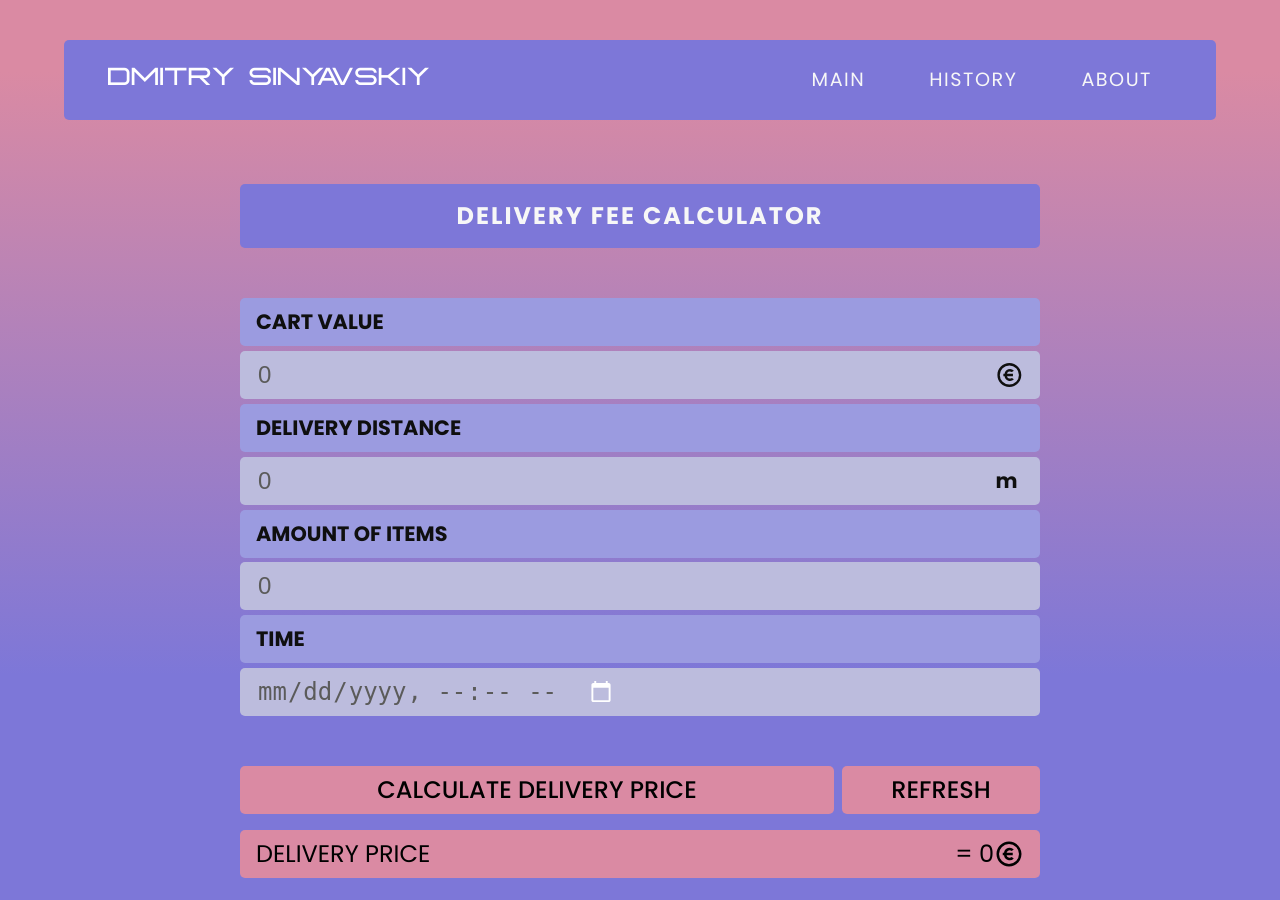
it: Integration tests › test calculate functionality and refresh btn
The width and height of the screenshot is (1280, 900).
Step 1. Replace the text in the field with test id "cartValue" with "10" → (626, 375), box [256,360,995,390]
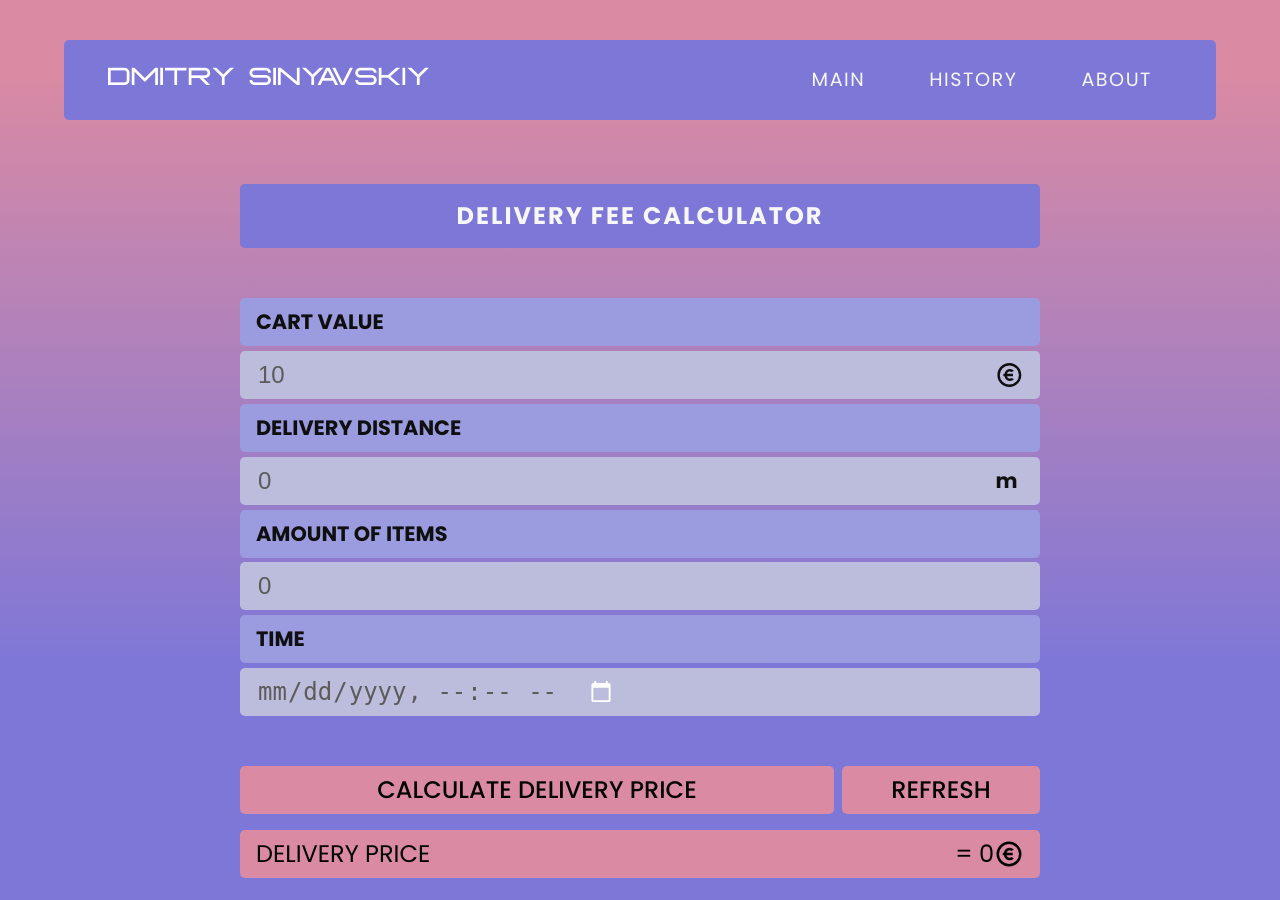
Step 2. Replace the text in the field with test id "distance" with "1000" → (626, 481), box [256,466,996,496]
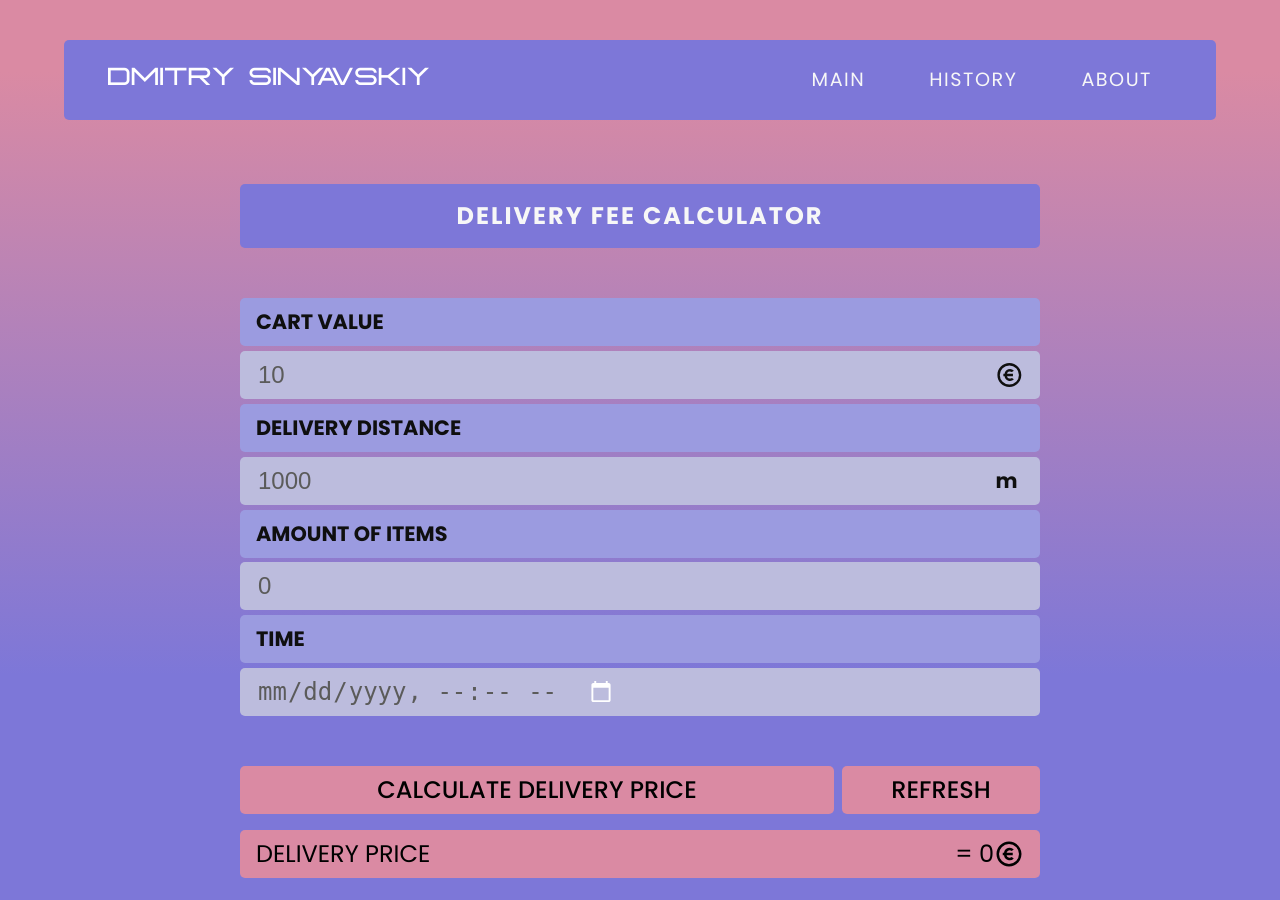
Step 3. Replace the text in the field with test id "itemsAmount" with "10" → (640, 586), box [256,571,1024,601]
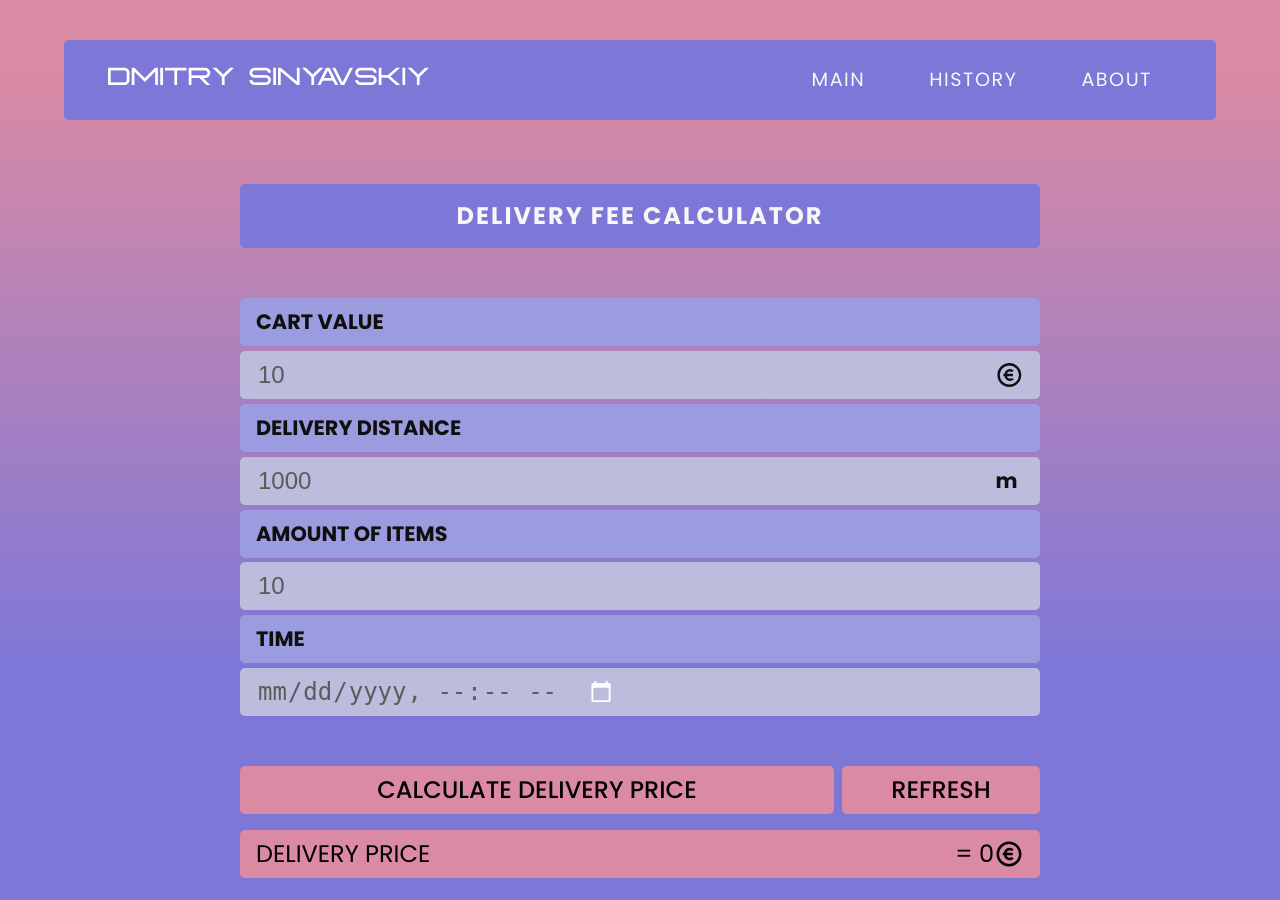
Step 4. Type "2023-01-06T10:00" into the field with test id "date" → (436, 692), box [256,677,615,707]
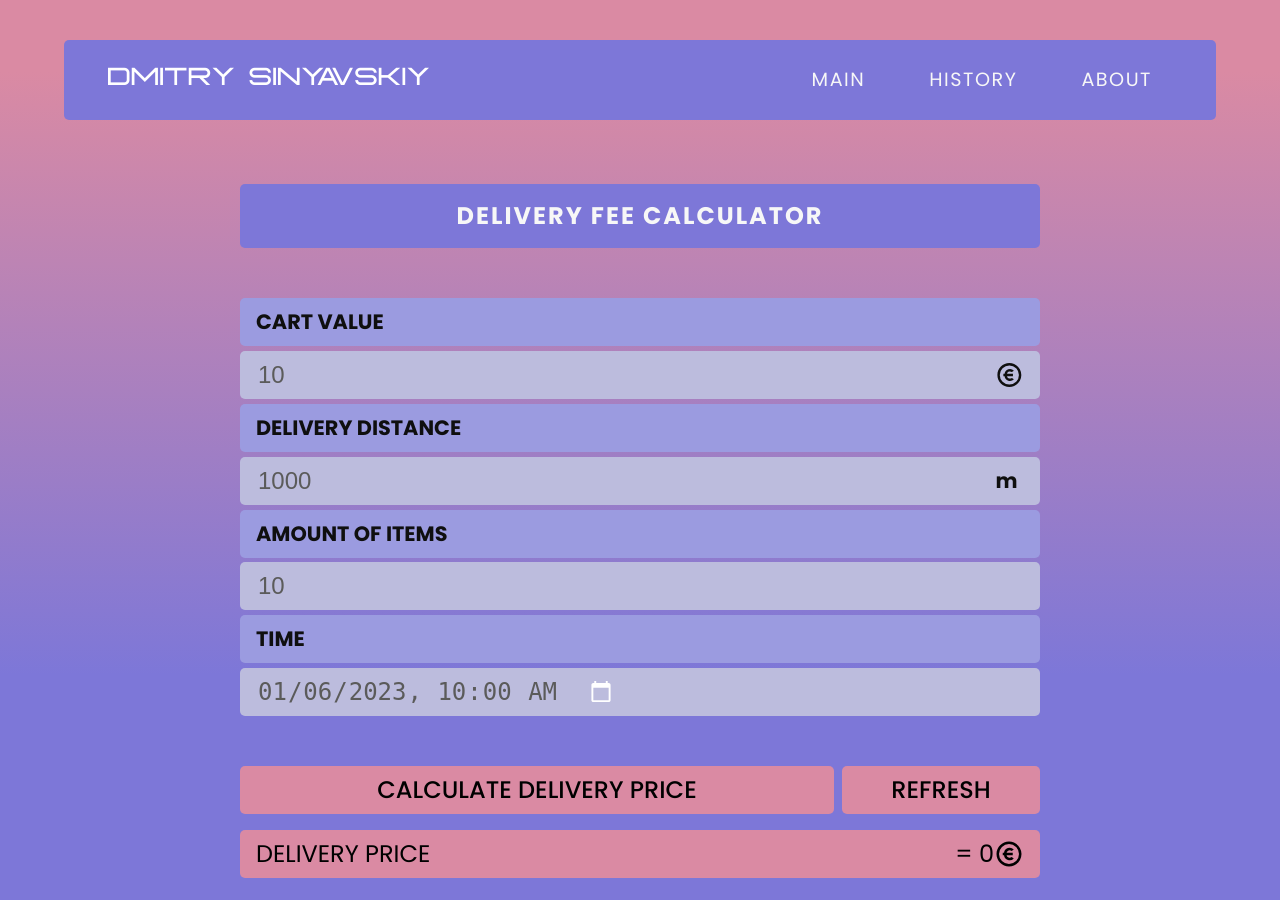
Step 5. Click the text "Calculate delivery price" → (537, 790), box [377,778,697,802]
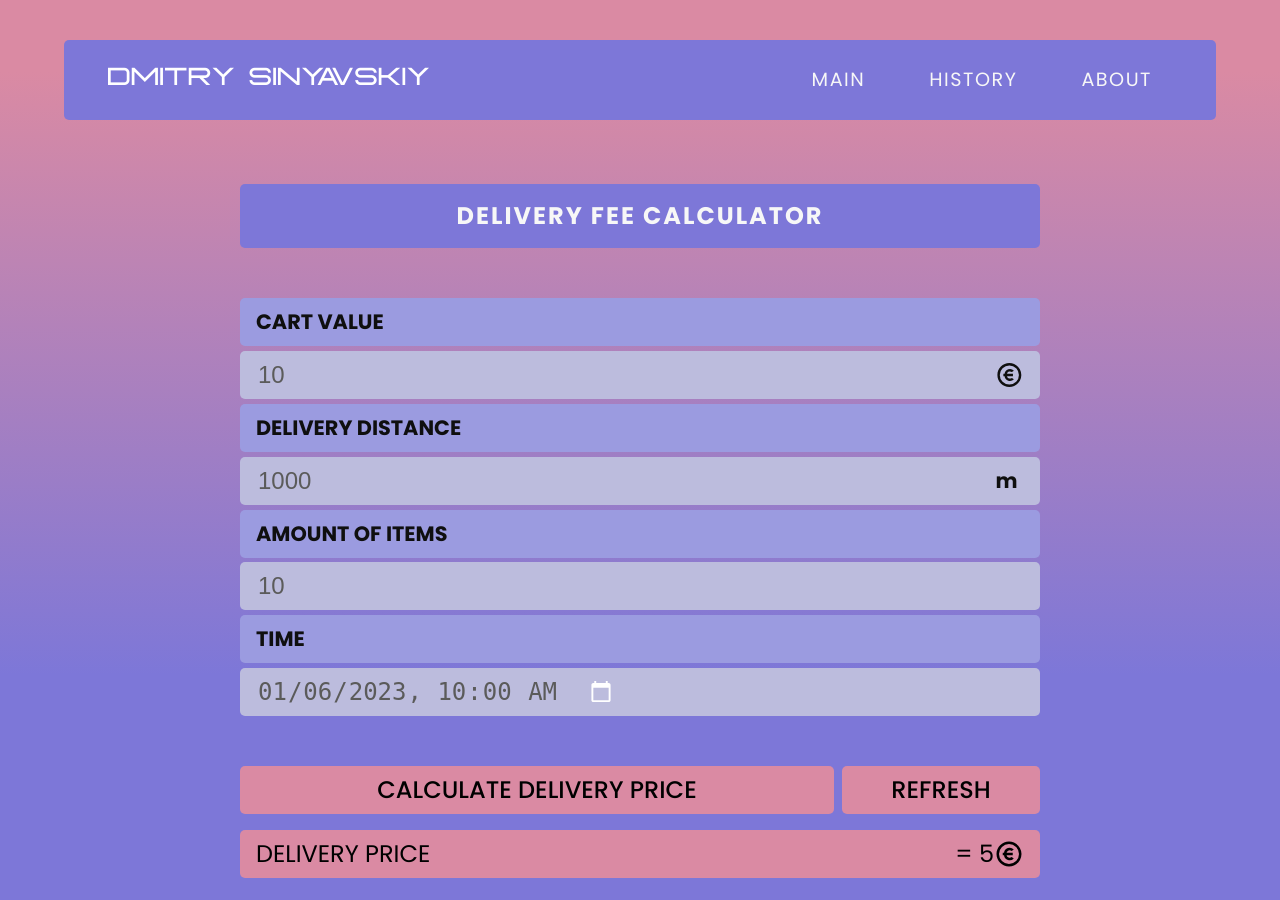
Expected: the text with test id "result" reads "= 5", [955,842,994,866]
Step 6. Click the text "Refresh" → (941, 790), box [891,778,991,802]
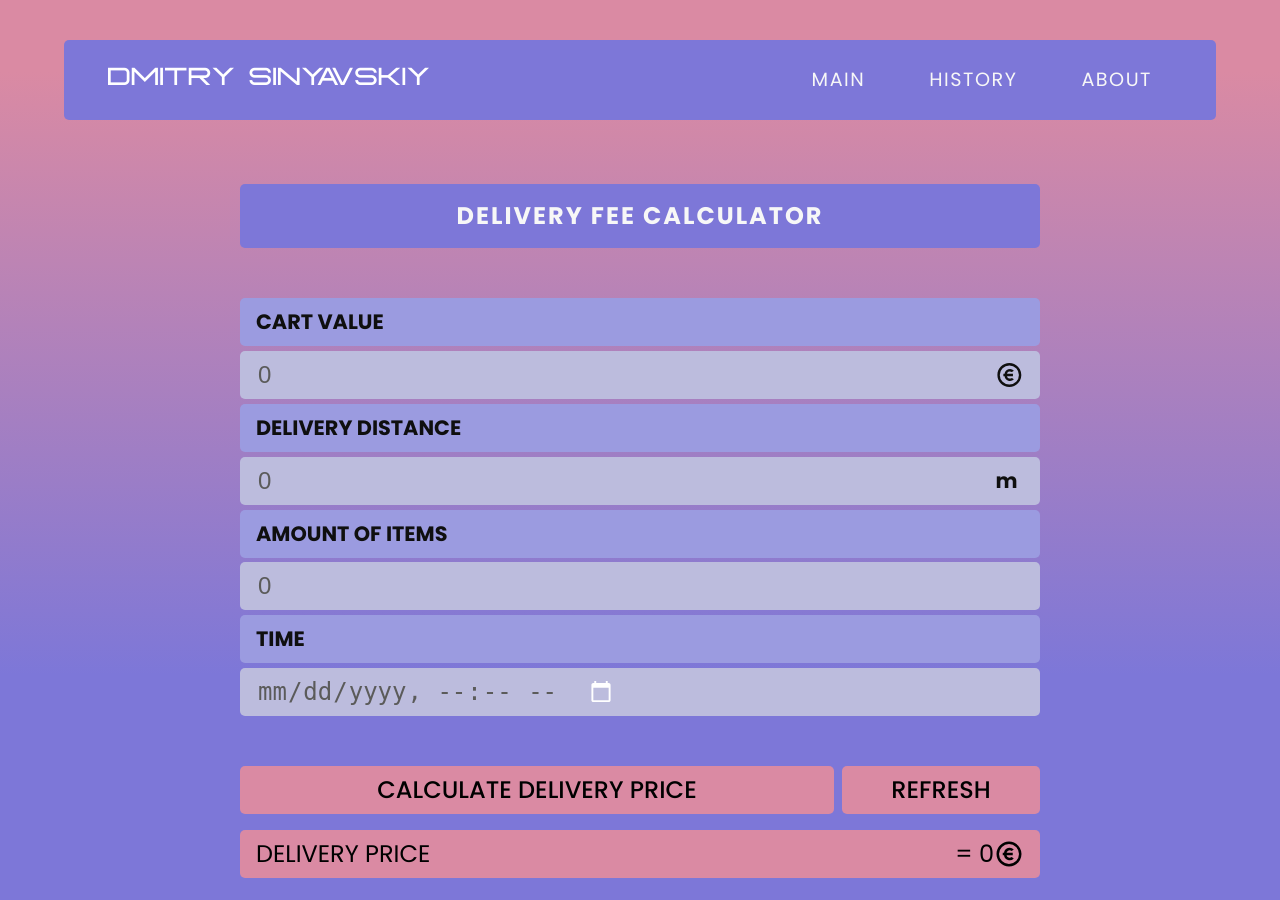
Expected: the field with test id "cartValue" holds "0", [256,360,995,390]
Expected: the field with test id "distance" holds "0", [256,466,996,496]
Expected: the field with test id "itemsAmount" holds "0", [256,571,1024,601]
